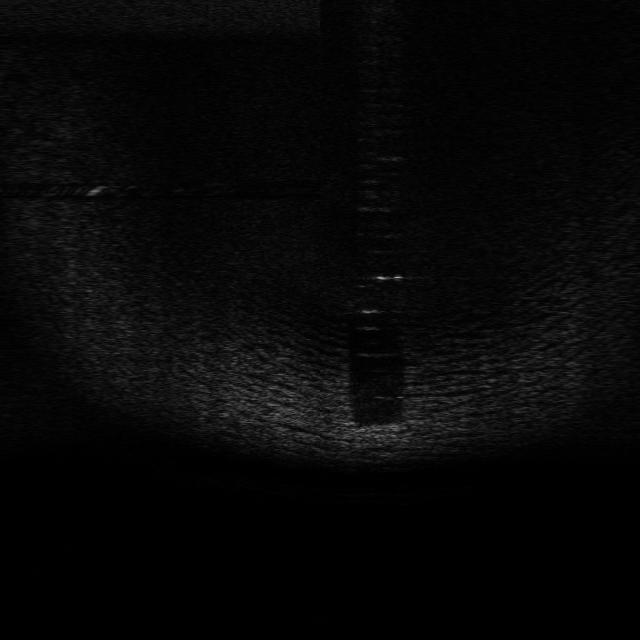cube: (351, 423, 408, 452)
